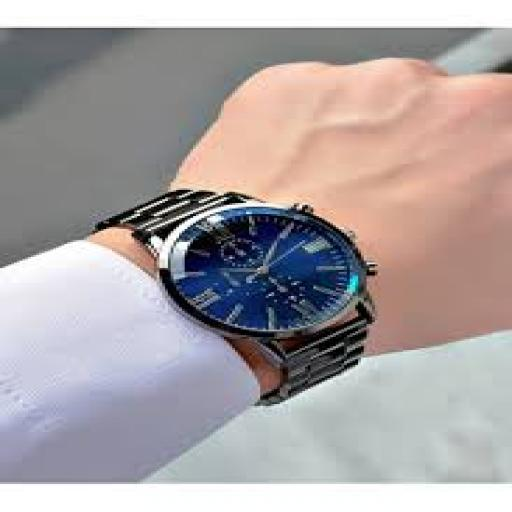KolSaati: (95, 173, 427, 400)
